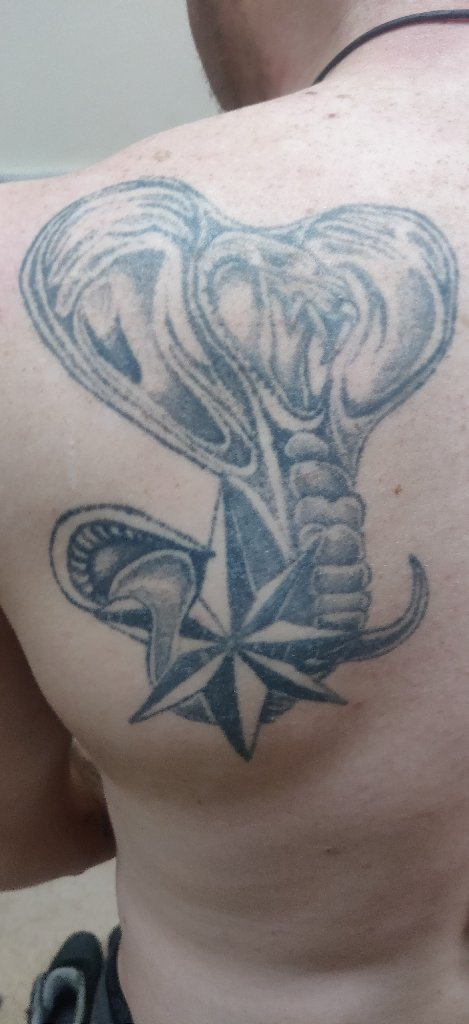tatu4_zvezda: (144, 483, 333, 776)
tatu7_zmeya: (31, 166, 451, 740)
